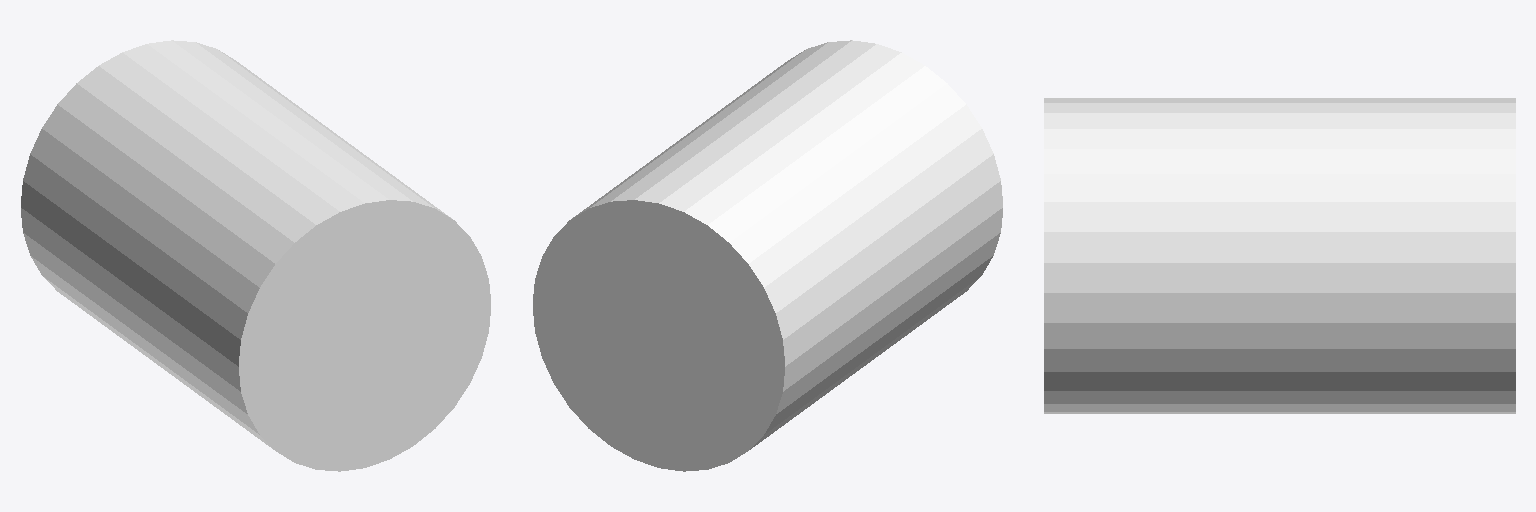
The robot description file, URDF, robot "obj_model":
<?xml version="1.0" ?>
<robot name="obj_model">

  <!-- Link that contains the object -->
  <link name="obj_link">
    <!-- Visual Shape: 3D mesh from the .obj file -->
    <visual>
      <geometry>
        <mesh filename="conserve.obj"/>  <!-- Path to the .obj file -->
      </geometry>
      <material name="default_material">
        <color rgba="1 1 1 1"/>  <!-- You can set the default color if no texture is available -->
      </material>
    </visual>
    
    <!-- Collision Shape: Mesh for collision -->
    <collision>
      <geometry>
        <mesh filename="conserve.obj"/>  <!-- Path to the .obj file -->
      </geometry>
    </collision>
    
    <!-- Inertial properties: Mass and Inertia -->
    <inertial>
		<mass value="0.425"/>
		<inertia ixx="0.000505" ixy="0" ixz="0" iyy="0.000505" iyz="0" izz="0.000283"/> <!-- Inertie du cylindre -->
	</inertial>
	
  </link>
</robot>

--- Render facts (derived) ---
The picture shows the robot from 3 angles, left to right: view 1: azimuth 30°, elevation 25°; view 2: azimuth 150°, elevation 25°; view 3: azimuth 270°, elevation 25°; orthographic projection.
Model obj_model with 1 links and 0 joints (none), rooted at obj_link, posed all joints at 0.
Visible links, largest first — view 1: obj_link; view 2: obj_link; view 3: obj_link.
Link boxes in pixels (x1,y1,x2,y2): obj_link: (21, 40, 490, 471); obj_link: (533, 40, 1002, 471); obj_link: (1044, 98, 1515, 413).
Bounding box of the posed robot: 0.073 × 0.109 × 0.073 m (x, y, z).
Meshes: 1 distinct files referenced, 1 mesh visuals loaded (1 OBJ).
